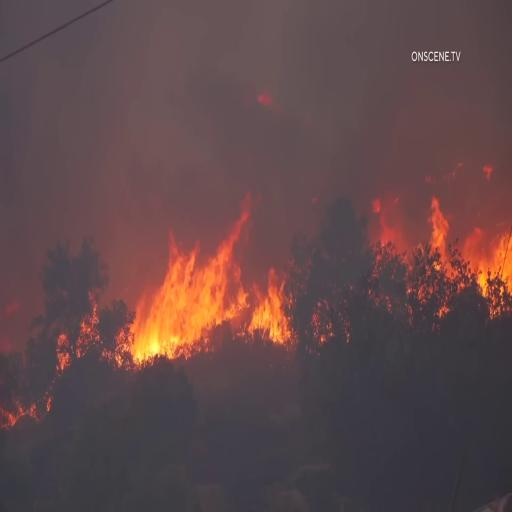fire: (127, 205, 249, 356), (431, 197, 512, 293), (247, 280, 300, 344)
smoke: (226, 11, 391, 198)
